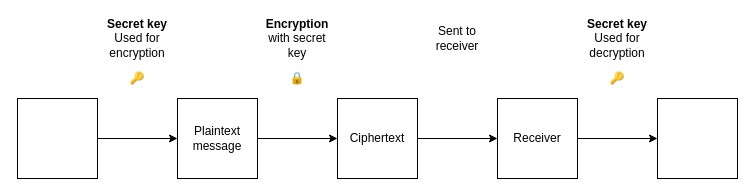
Image size: 755x196. Some labels were removed from this diagram. The box of each missing label's shape, as (x1, y1, x2, y2) in pixels:
Decrypted plaintext message: (656, 98, 738, 178)
Sender: (16, 98, 98, 178)
